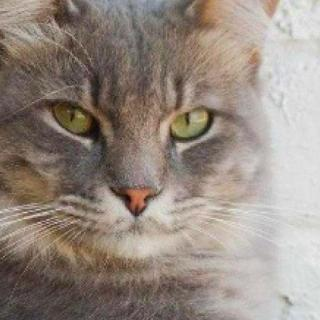cat: (0, 0, 295, 278)
nose: (107, 154, 168, 220)
